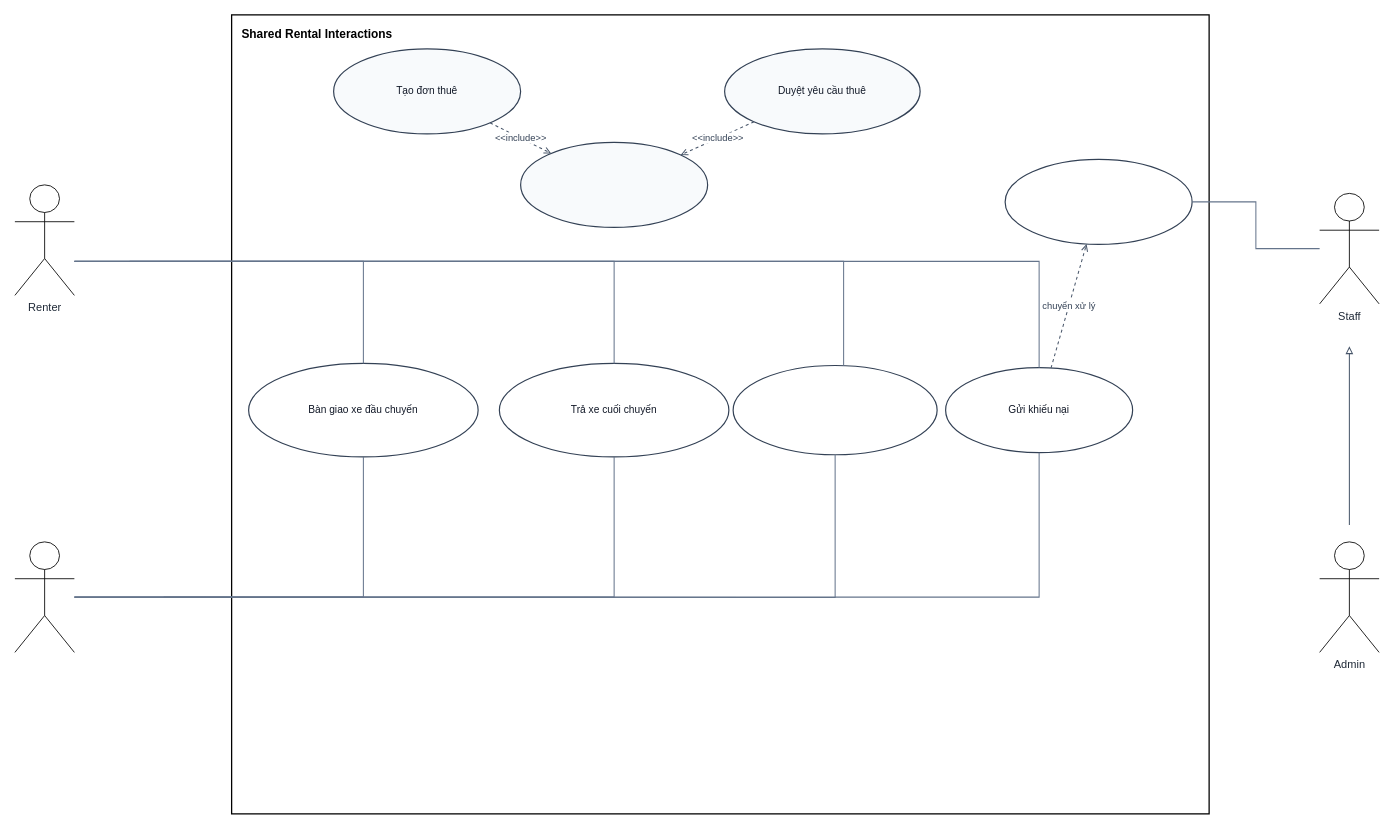
This 1394x830 diagram has some shape labels left out. Each missing label, with the centre of its shape:
"Kiểm tra lịch xe" belongs at (614,184).
"Owner" belongs at (44,596).
"Xử lý khiếu nại" belongs at (1098,201).
"Đánh giá bên còn lại" belongs at (834,409).
